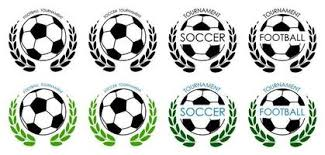football ball: (254, 11, 312, 62), (17, 9, 70, 64), (95, 11, 149, 62), (257, 86, 310, 137), (177, 11, 230, 60), (18, 86, 67, 139), (98, 88, 148, 137), (179, 88, 227, 138)
